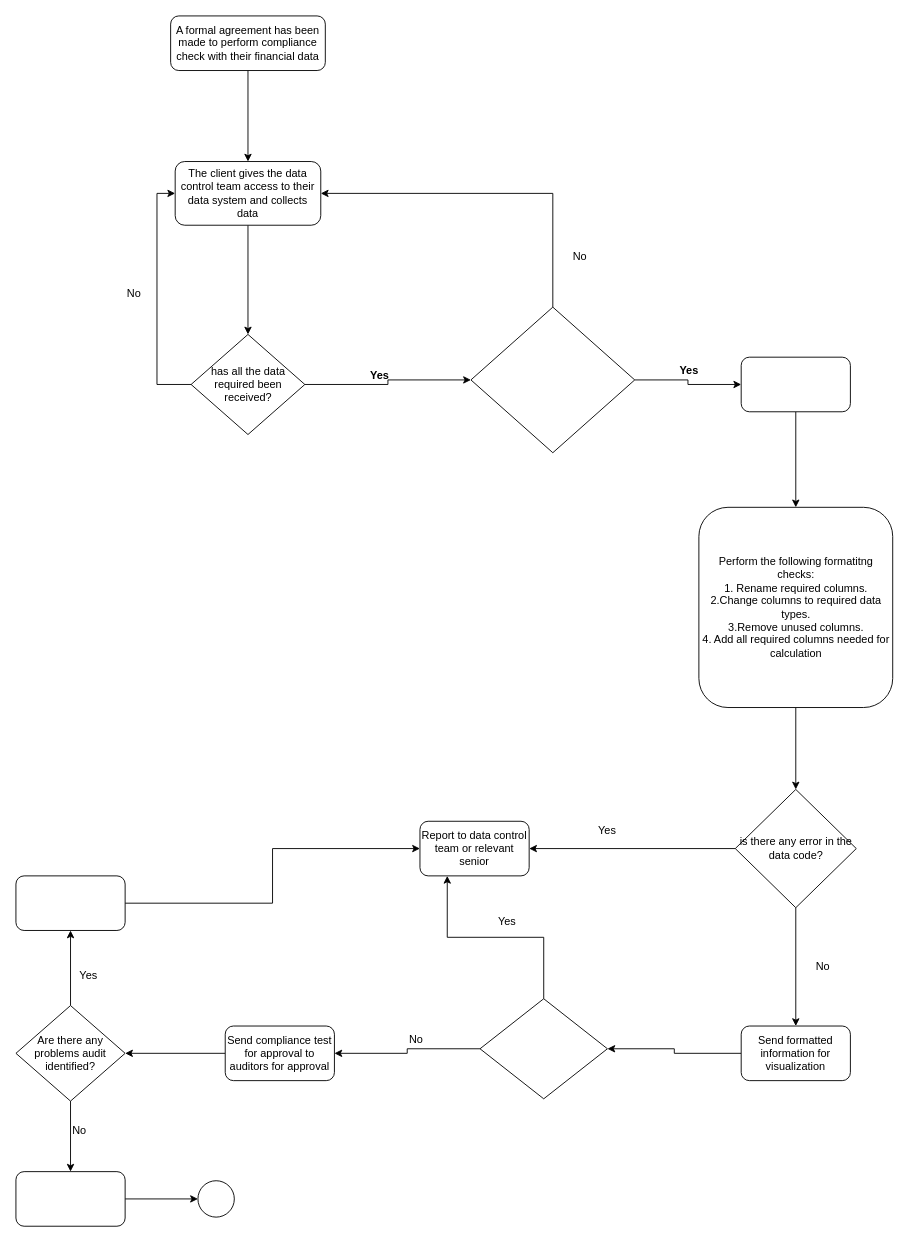
Some shapes in this 909 by 1242 pixel diagram are drawn without their labels. Here are the shapes that lost their labels. From the top down, the centre of each, then its label:
At point (552, 379): "Does the data pass all the given security check with the data control team?".
At point (795, 384): "Approve the data to be given to the data cleaning team".
At point (70, 902): "Report to relevant data analyst".
At point (543, 1048): "Are there any visualization problems?".
At point (70, 1198): "Send through compliance result to relevant partner".
